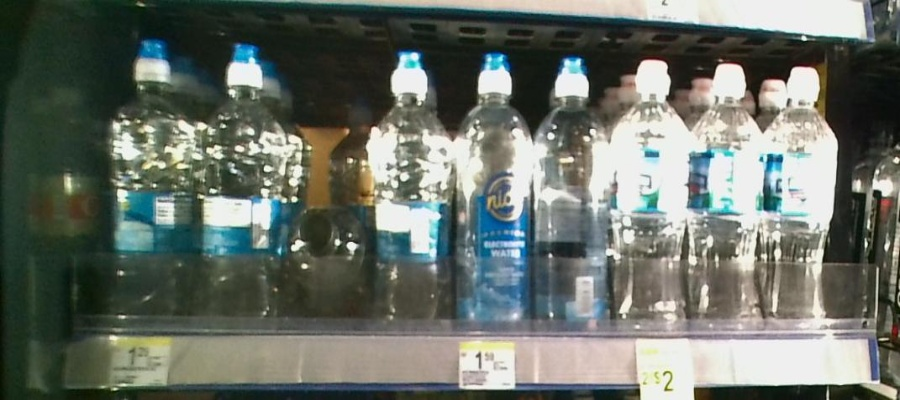bottle: (103, 34, 192, 334), (372, 44, 455, 335), (203, 40, 282, 338), (534, 52, 607, 334), (458, 46, 530, 329), (613, 55, 686, 334), (691, 58, 764, 332), (767, 59, 839, 323), (290, 194, 366, 314)
